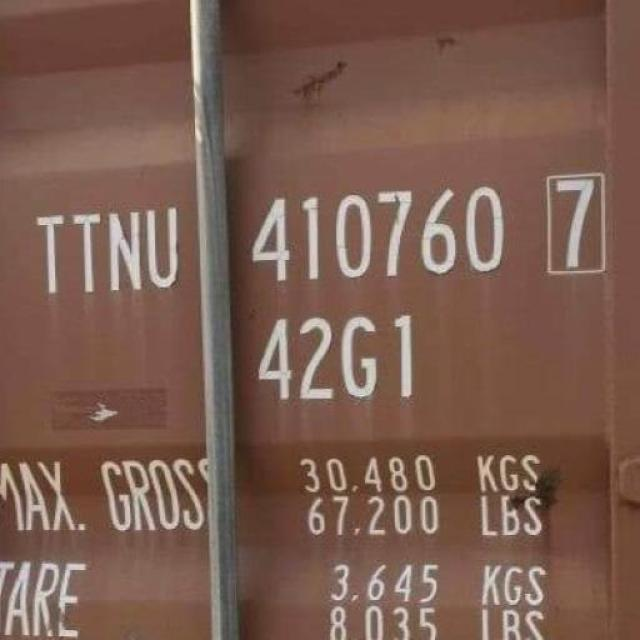ISO: (254, 311, 410, 413)
container_number: (35, 172, 603, 301)
